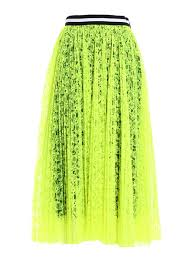C_skirt: (30, 10, 170, 247)
